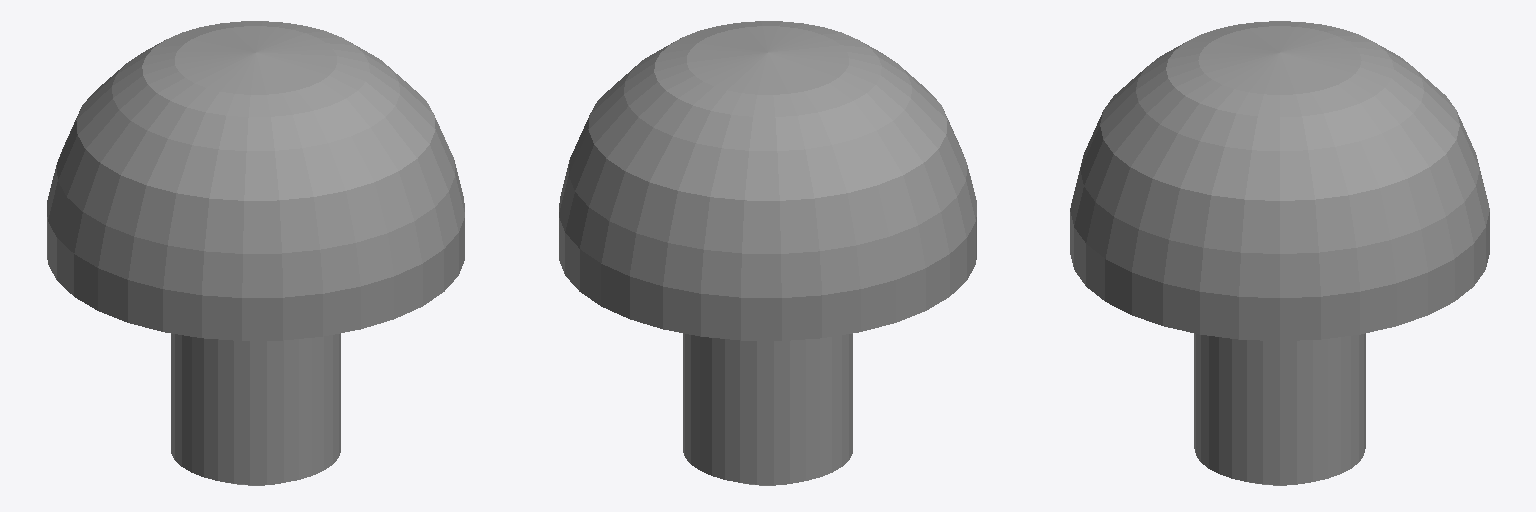
Rendered from Mushroom.obj.
3 renders of one model, left to right at view 1: azimuth 30°, elevation 25°; view 2: azimuth 150°, elevation 25°; view 3: azimuth 270°, elevation 25°, orthographic.
Parts seen in each view (by area): view 1: mushroom_Cylinder; view 2: mushroom_Cylinder; view 3: mushroom_Cylinder.
Part boxes in pixels (left/top/right/bottom): mushroom_Cylinder: left=47, top=21, right=464, bottom=485; mushroom_Cylinder: left=559, top=21, right=976, bottom=485; mushroom_Cylinder: left=1070, top=21, right=1489, bottom=485.
Bounding box in the file's own units: 4.36 × 4.66 × 4.36.